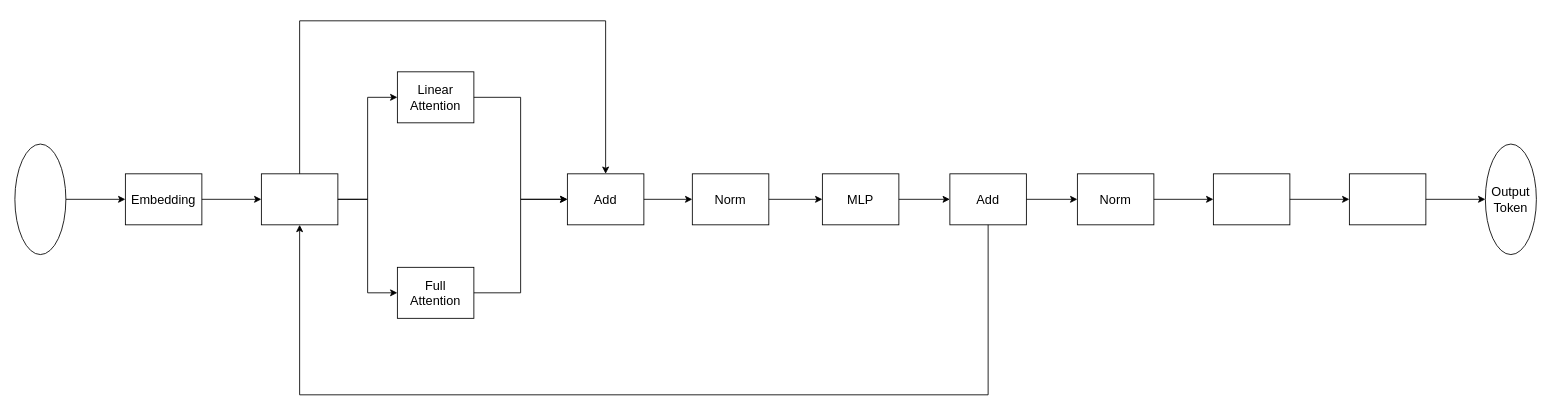
This 1551x417 diagram has some shape labels left out. Here are the shapes that lost their labels. From the top down, the centre of each, then its label:
the point at 40,199: Input Token
the point at 299,199: RMSNorm
the point at 1251,199: LM Head
the point at 1387,199: Sample
